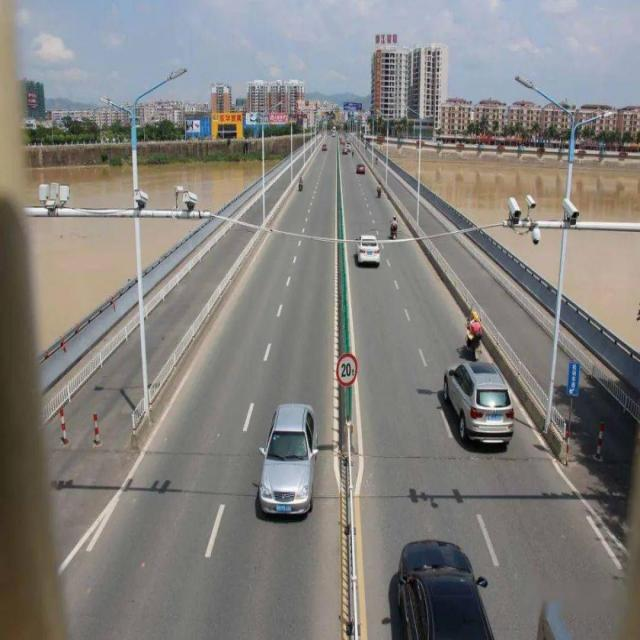point: (294, 91, 384, 193)
